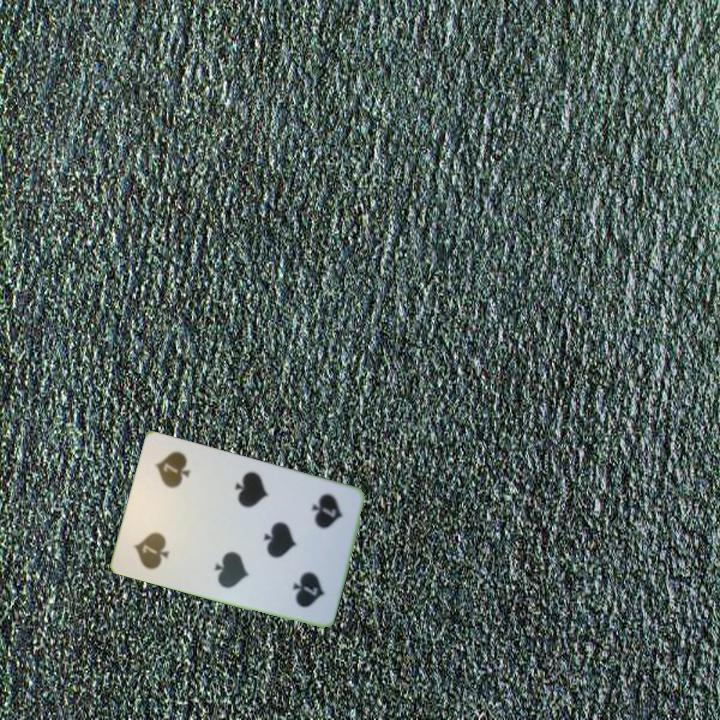s_7.png: (120, 501, 193, 579), (285, 482, 357, 561)
